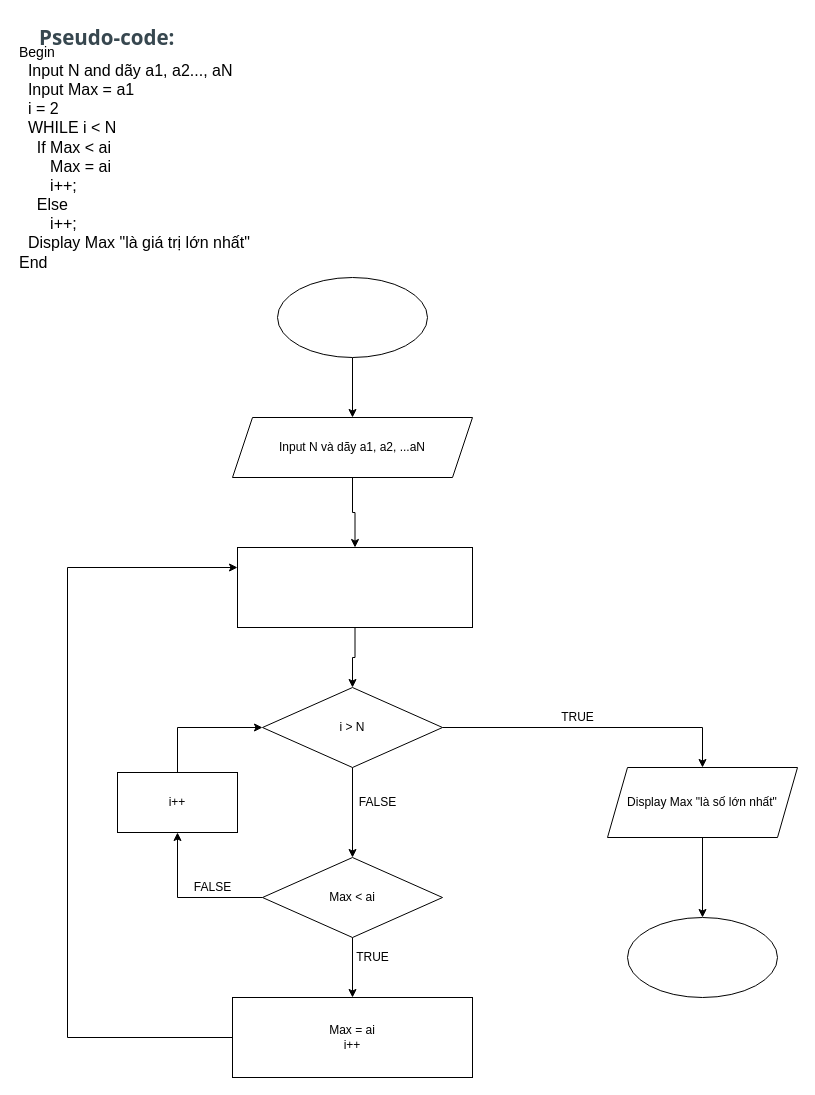
Some shapes in this 815 by 1095 pixel diagram are drawn without their labels. The shapes that lost their labels are listed below. From the top down, each one's centre as x and y in pixels, then its label:
At (x=352, y=317): "Begin".
At (x=354, y=587): "Input Max = a1 i = 2".
At (x=702, y=957): "End".
